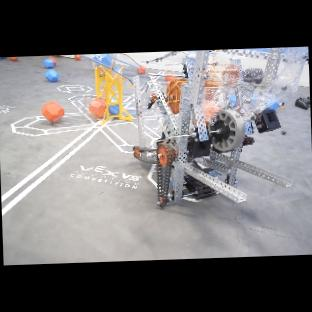Robot: (133, 47, 308, 207)
redinrobot: (203, 104, 222, 125), (191, 116, 194, 125)
